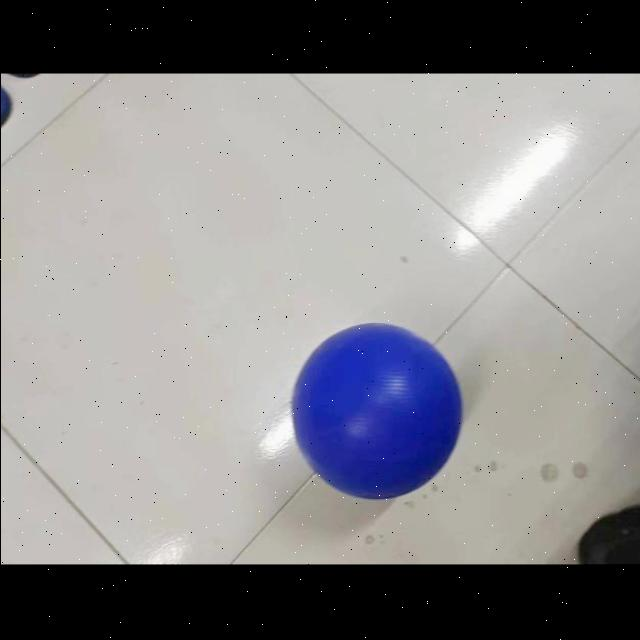B: (284, 319, 464, 509)
